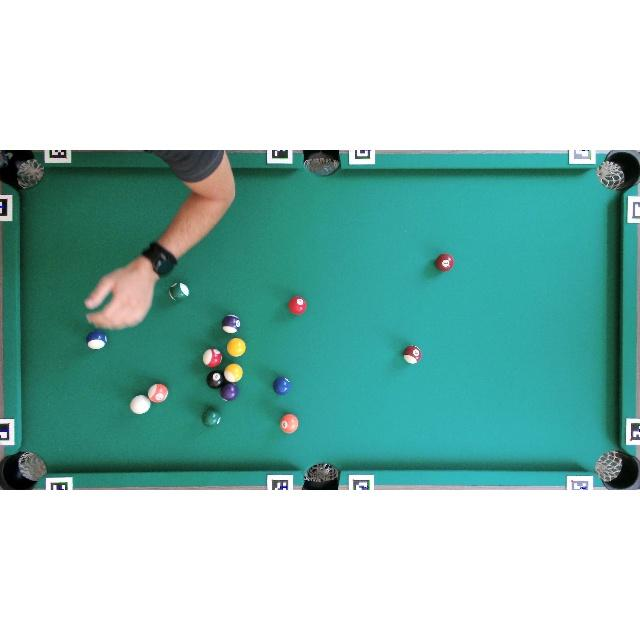cue ball: (130, 395, 151, 414)
other: (168, 282, 190, 302), (86, 330, 107, 350), (148, 383, 169, 403), (226, 337, 246, 357), (202, 348, 222, 368), (222, 314, 241, 334), (202, 408, 222, 427), (224, 363, 243, 383), (206, 370, 225, 389), (403, 345, 422, 364), (435, 253, 455, 271), (280, 414, 298, 434), (273, 376, 291, 395), (288, 296, 306, 315), (220, 383, 238, 401)
